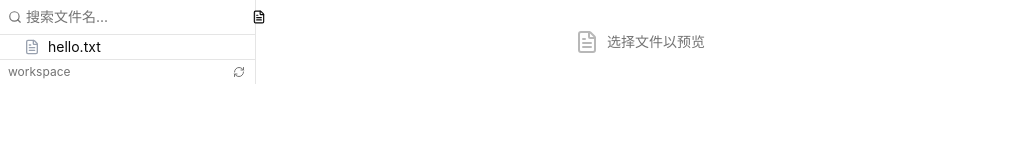
Test: FileExplorerPanel › 点击文件加载预览
This screenshot has width=1024, height=160.
Expected: the text "hello.txt" is shown, left=48, top=37, right=101, bottom=57
# Click on file
Click the element with test id "tree-node-hello.txt": {"x": 62, "y": 46} left=24, top=38, right=101, bottom=55
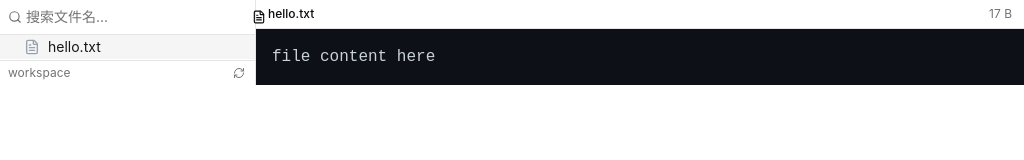
Now the element with test id "file-preview" is shown, box left=256, top=0, right=1023, bottom=85
